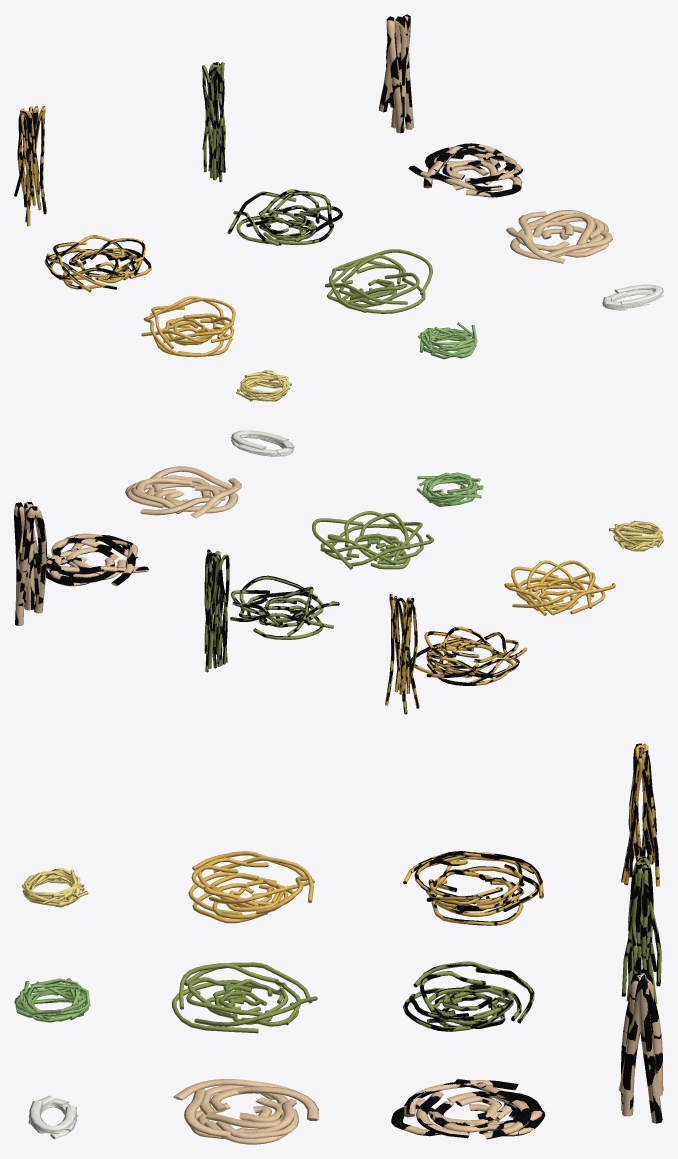
Rendered from Phase3_Noodles_P2P3.glb.
3 renders of one model, top to bottom at view 1: azimuth 30°, elevation 25°; view 2: azimuth 150°, elevation 25°; view 3: azimuth 270°, elevation 25°, orthographic. The views are drawn at different scales.
Parts seen in each view (by area): view 1: WideRiceNoodle_Bed_B, WideRiceNoodle_Bed_A, VeggieNoodleNest_Bed_A, VeggieNoodleNest_Bed_B, EggNoodle_Bed_B, EggNoodle_Bed_A, WideRiceNoodle_Lift, EggNoodle_Lift, VeggieNoodleNest_Lift, VeggieNoodleNest_Raw, EggNoodle_Raw, WideRiceNoodle_Raw; view 2: WideRiceNoodle_Bed_A, VeggieNoodleNest_Bed_A, WideRiceNoodle_Bed_B, EggNoodle_Bed_B, VeggieNoodleNest_Bed_B, WideRiceNoodle_Lift, EggNoodle_Bed_A, VeggieNoodleNest_Lift, EggNoodle_Lift, VeggieNoodleNest_Raw, EggNoodle_Raw, WideRiceNoodle_Raw; view 3: WideRiceNoodle_Bed_B, WideRiceNoodle_Bed_A, VeggieNoodleNest_Bed_A, EggNoodle_Bed_B, EggNoodle_Bed_A, VeggieNoodleNest_Bed_B, WideRiceNoodle_Lift, VeggieNoodleNest_Lift, EggNoodle_Lift, VeggieNoodleNest_Raw, EggNoodle_Raw, WideRiceNoodle_Raw.
Boxes of the visible parts, x1,y1,x2,y2 form: WideRiceNoodle_Bed_B: (408,143,522,197); WideRiceNoodle_Bed_A: (506,210,612,263); VeggieNoodleNest_Bed_A: (325,249,432,313); VeggieNoodleNest_Bed_B: (227,189,342,245); EggNoodle_Bed_B: (44,235,151,292); EggNoodle_Bed_A: (141,296,235,357); WideRiceNoodle_Lift: (379,14,413,133); EggNoodle_Lift: (14,106,46,226); VeggieNoodleNest_Lift: (202,62,225,182); VeggieNoodleNest_Raw: (418,322,477,359); EggNoodle_Raw: (236,370,291,401); WideRiceNoodle_Raw: (602,284,663,310); WideRiceNoodle_Bed_A: (125,466,241,518); VeggieNoodleNest_Bed_A: (312,511,433,569); WideRiceNoodle_Bed_B: (45,533,148,586); EggNoodle_Bed_B: (410,626,527,685); VeggieNoodleNest_Bed_B: (230,575,339,639); WideRiceNoodle_Lift: (14,502,46,625); EggNoodle_Bed_A: (504,560,615,615); VeggieNoodleNest_Lift: (204,549,229,672); EggNoodle_Lift: (385,594,419,714); VeggieNoodleNest_Raw: (416,472,483,506); EggNoodle_Raw: (609,520,663,551); WideRiceNoodle_Raw: (230,430,294,456); WideRiceNoodle_Bed_B: (391,1079,545,1139); WideRiceNoodle_Bed_A: (173,1079,318,1144); VeggieNoodleNest_Bed_A: (172,962,317,1033); EggNoodle_Bed_B: (403,851,543,925); EggNoodle_Bed_A: (188,851,314,923); VeggieNoodleNest_Bed_B: (403,961,534,1031); WideRiceNoodle_Lift: (619,969,663,1123); VeggieNoodleNest_Lift: (621,856,661,1004); EggNoodle_Lift: (621,743,659,886); VeggieNoodleNest_Raw: (14,978,90,1022); EggNoodle_Raw: (21,868,88,907); WideRiceNoodle_Raw: (28,1095,77,1138).
Size of the model in its own units: 0.5563 by 0.1396 by 0.5298.
Materials: 6 (6 with a texture image).
